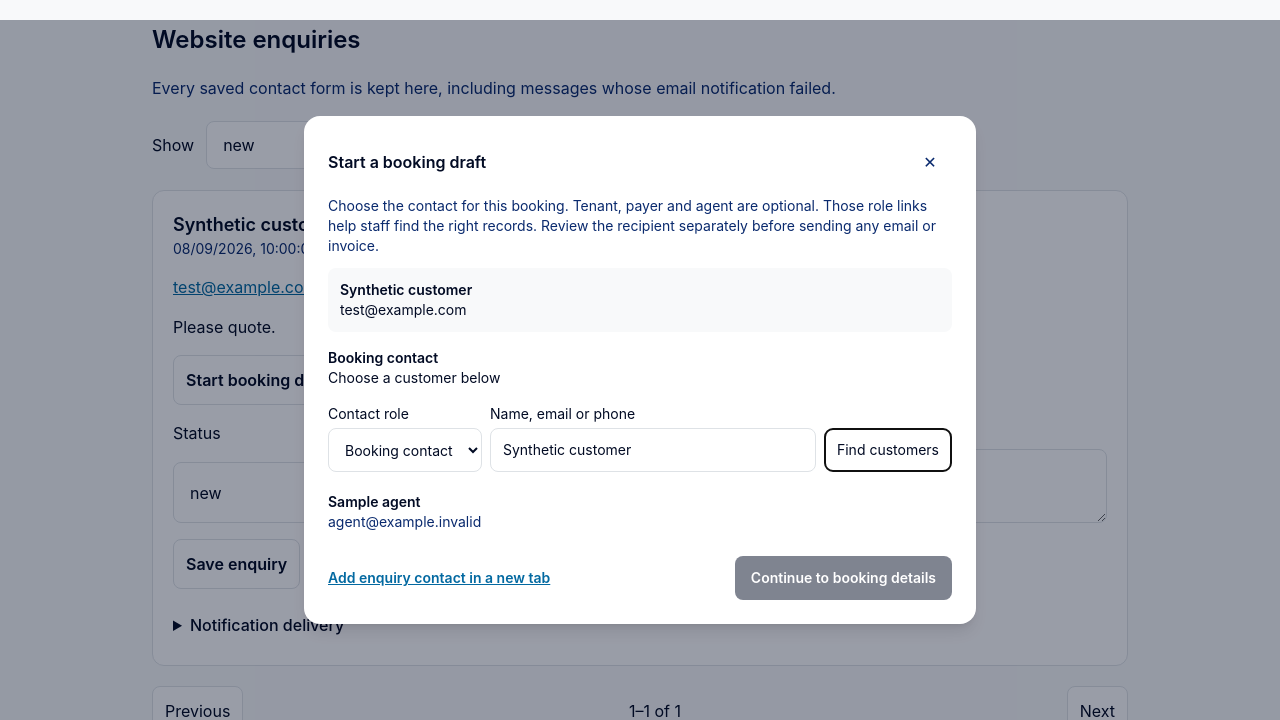
enquiry to booking handoff › requires a contact and explicit payment choice, then opens the linked booking
Earlier steps of the test are not shown.
Click the button "Sample agent agent@example.invalid" at (374,502), box [328,484,952,540]
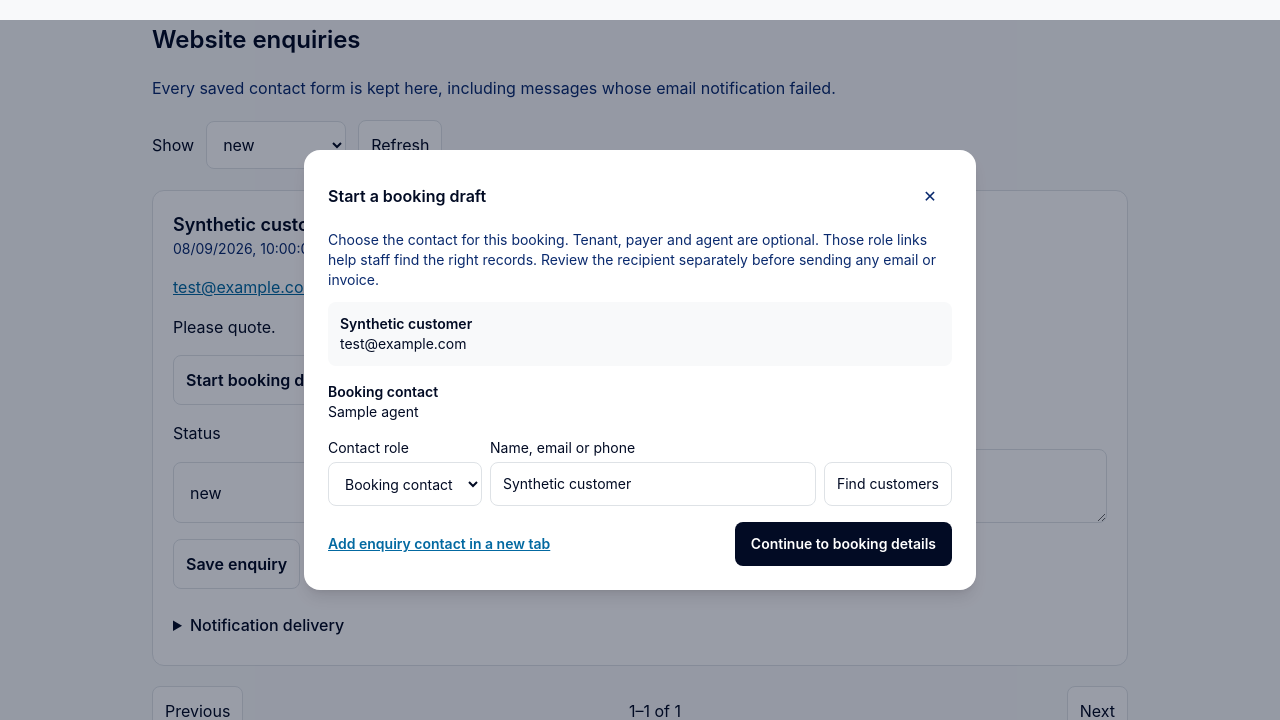
Select "Agent" in the dropdown labelled "Contact role" at (405,484), box [328,462,482,506]
Click the button "Find customers" at (888,484), box [824,462,952,506]
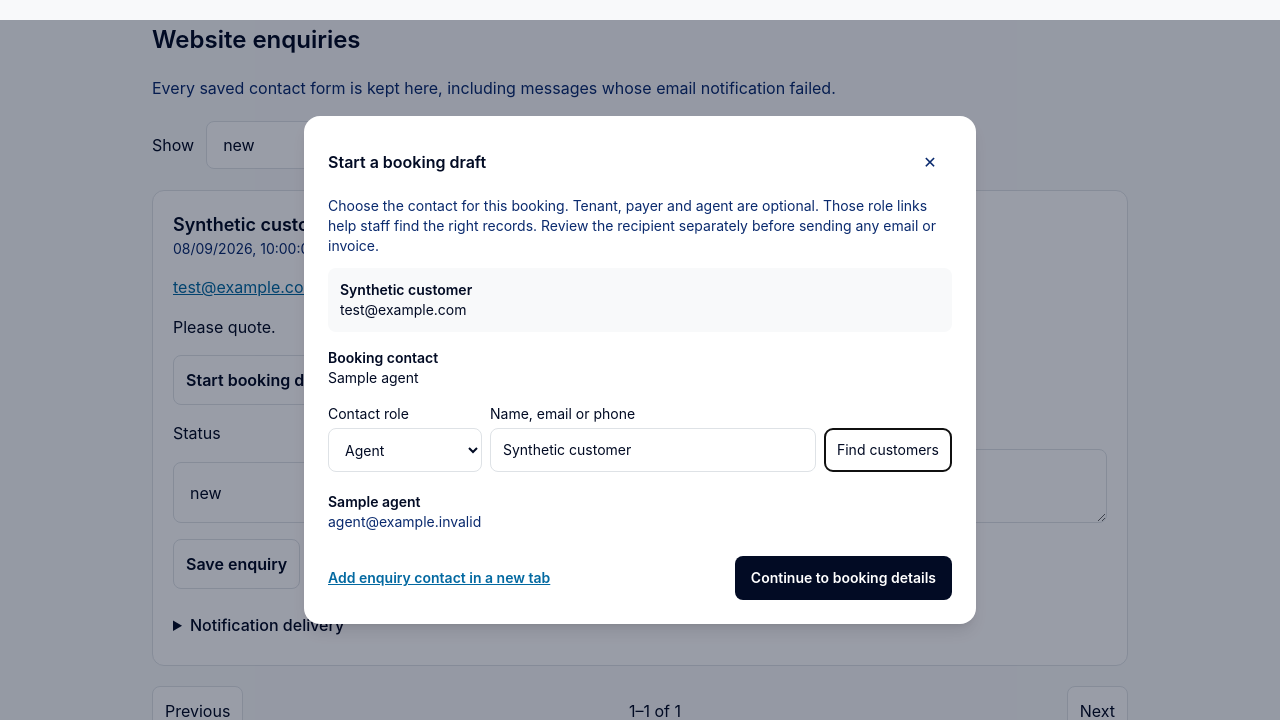
Click the button "Sample agent agent@example.invalid" at (374,502), box [328,484,952,540]
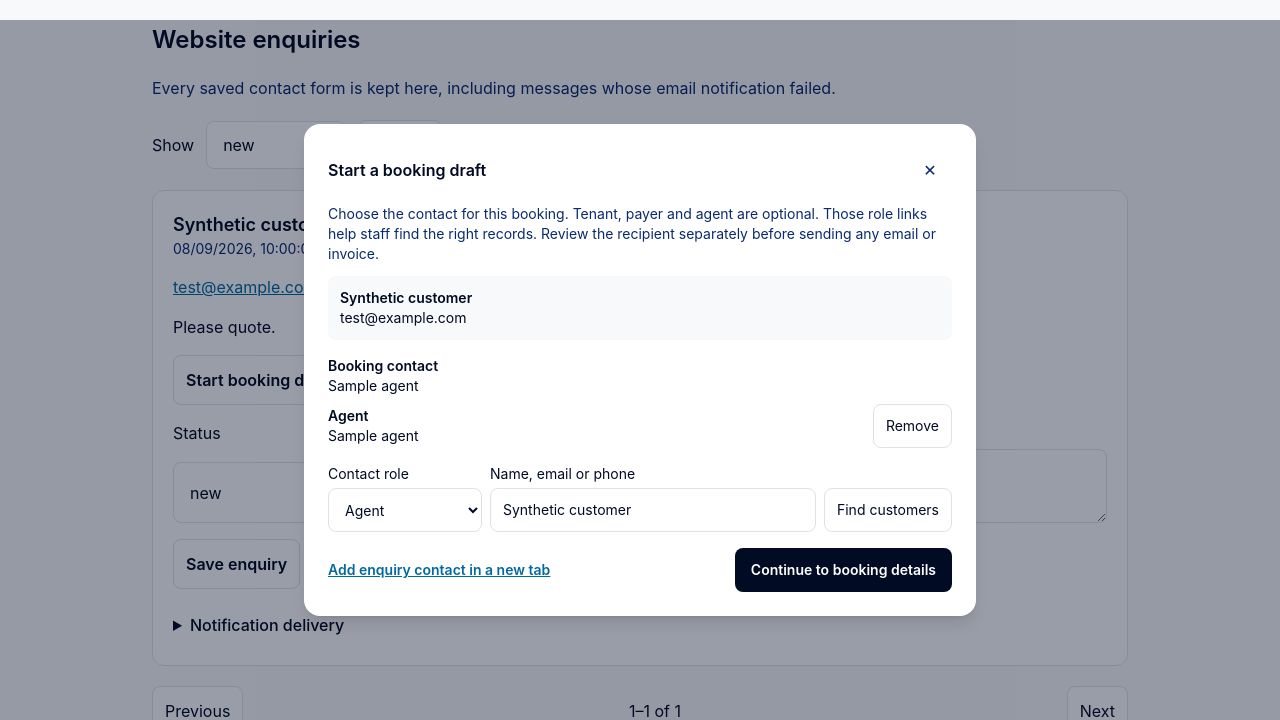
Click the button "Continue to booking details" at (843,570), box [735,548,952,592]
(page scrolled)
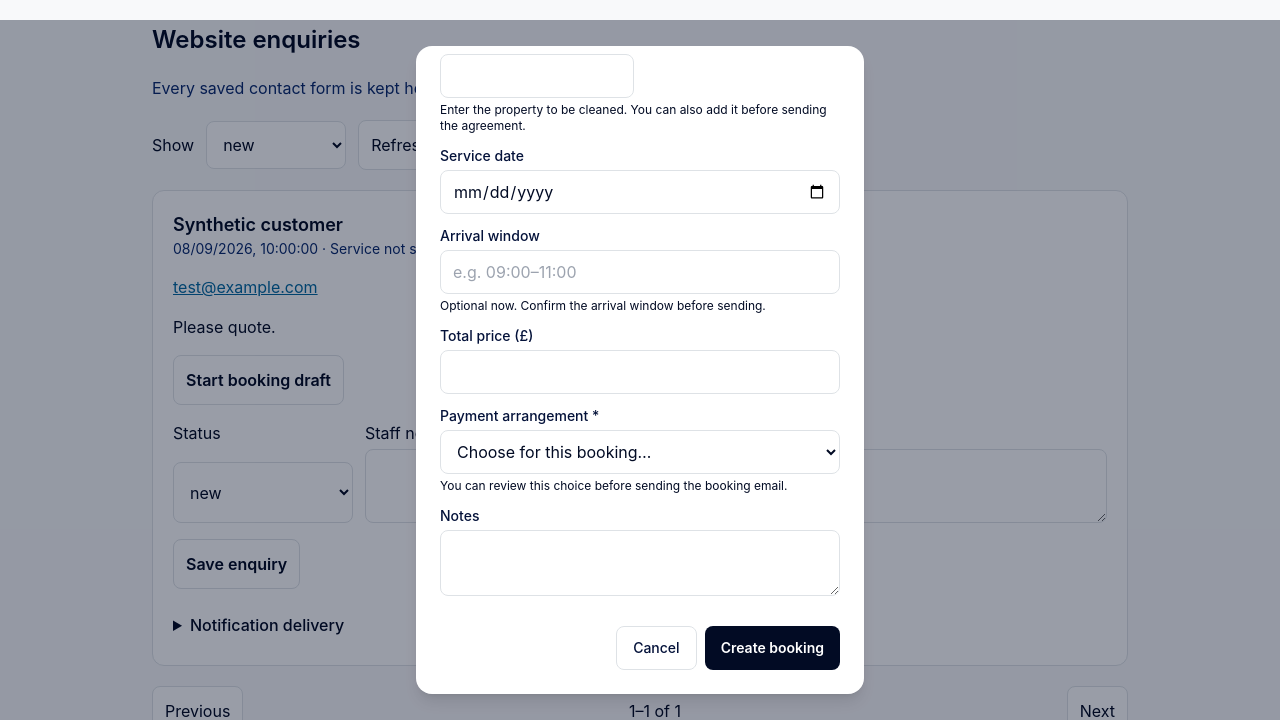
Click the button "Create booking" at (772,648), box [705,626,840,670]
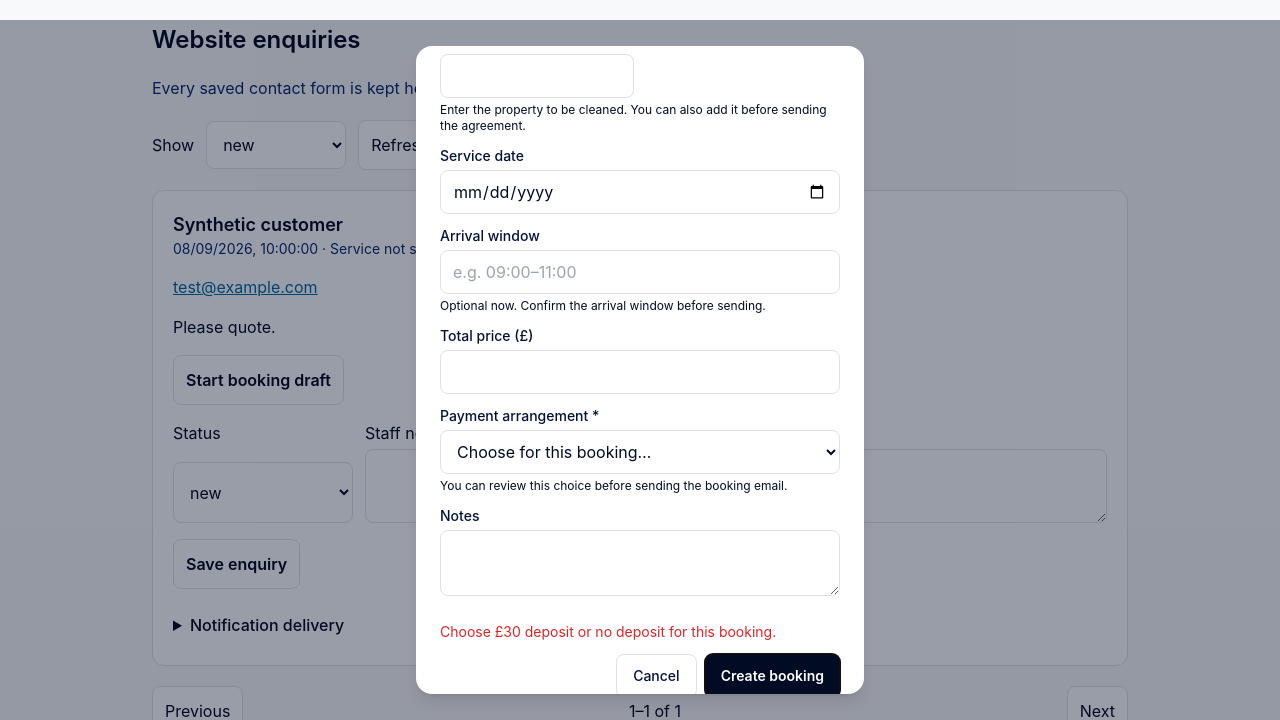
Now the message shows "Choose", box [440,623,776,640]
Select "No deposit — payment on the cleaning day" in the dropdown labelled "Payment arrangement" at (640,452), box [440,430,840,474]
Click the button "Create booking" at (772,676), box [705,654,840,698]
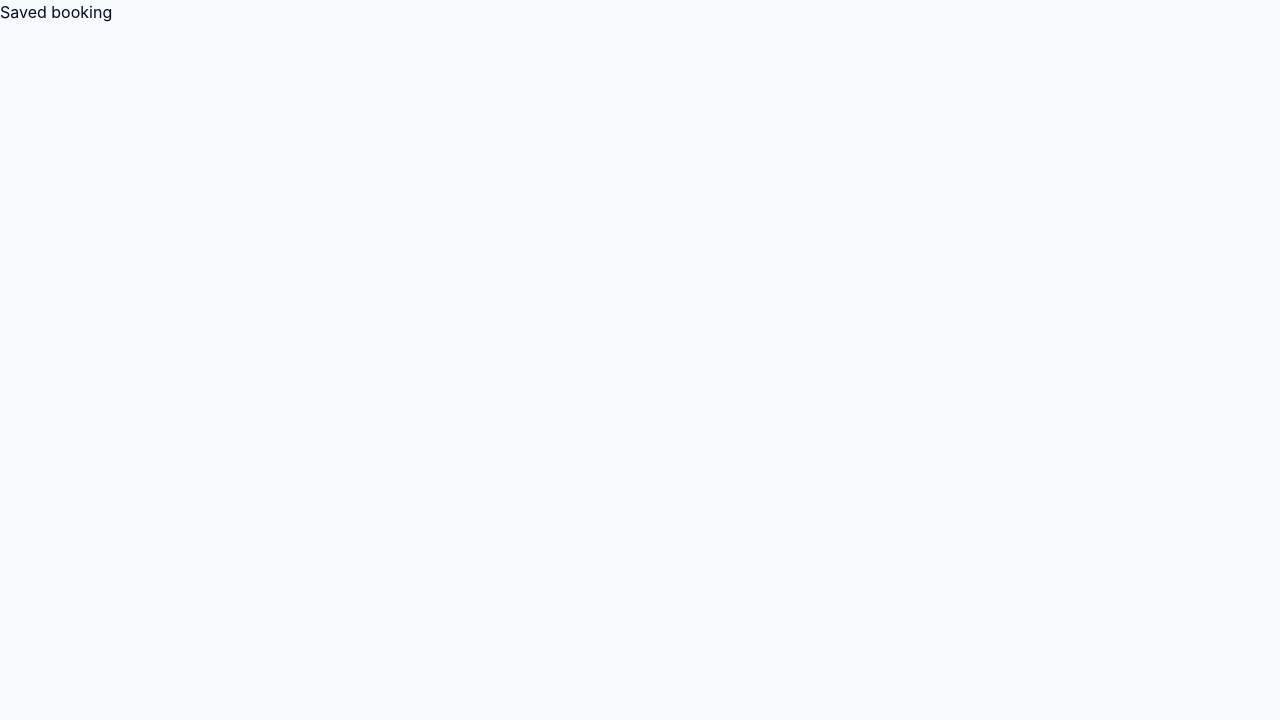
Now the heading "Saved booking" is shown, box [0,2,112,22]
